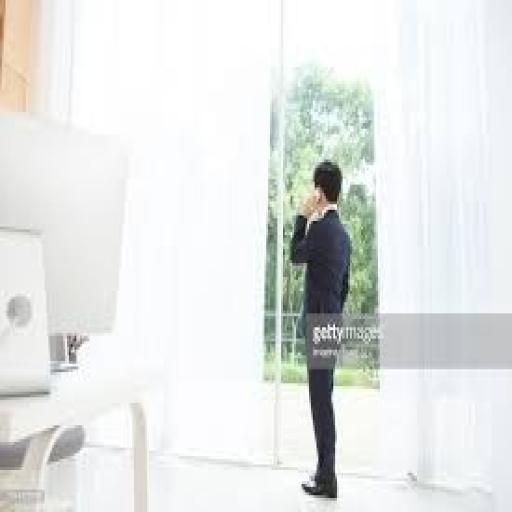calling: (286, 156, 354, 500)
